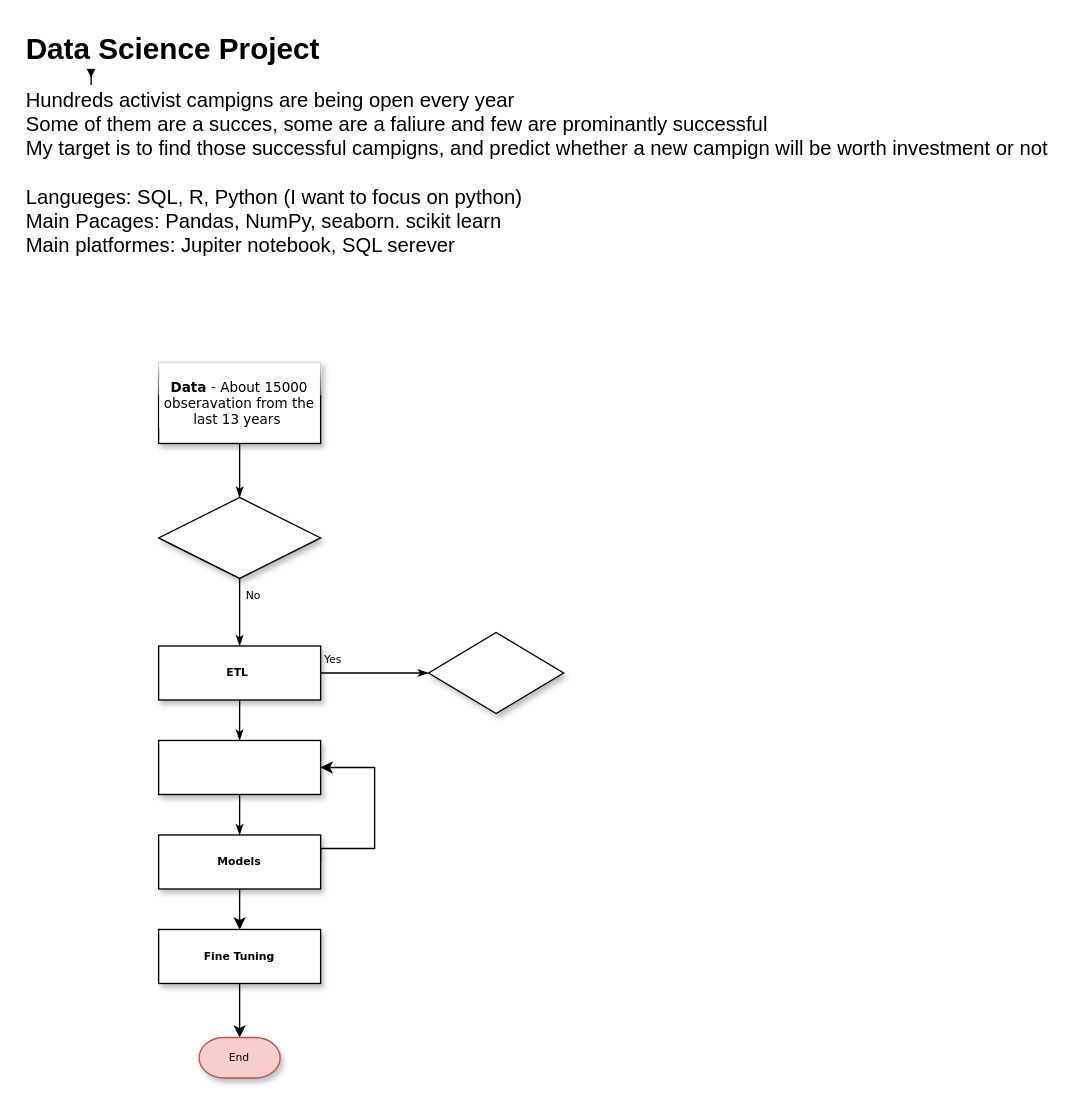
The diagram is 1071 pixels wide and 1111 high, and some of its shapes have lost their labels. The centre of each missing label's shape, as x and y in pixels:
"Feature Engeeining" goes at [240,769].
"Flat File" goes at [240,539].
"Overveiw ETL" goes at [497,674].
